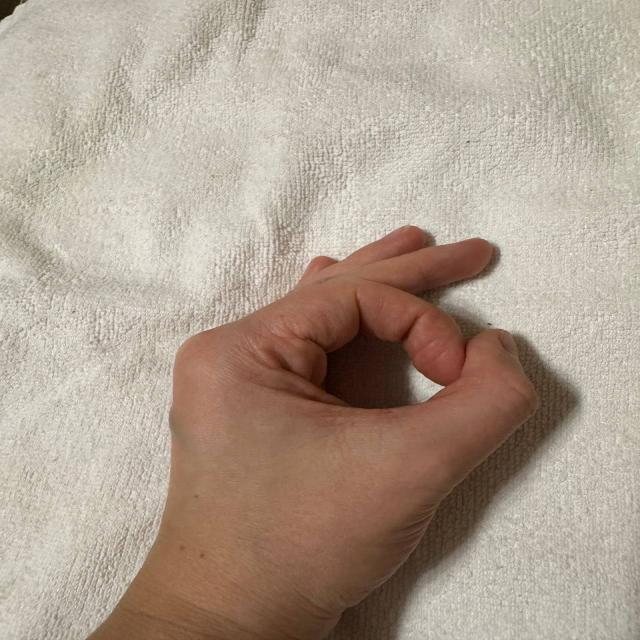o: (80, 173, 569, 592)
